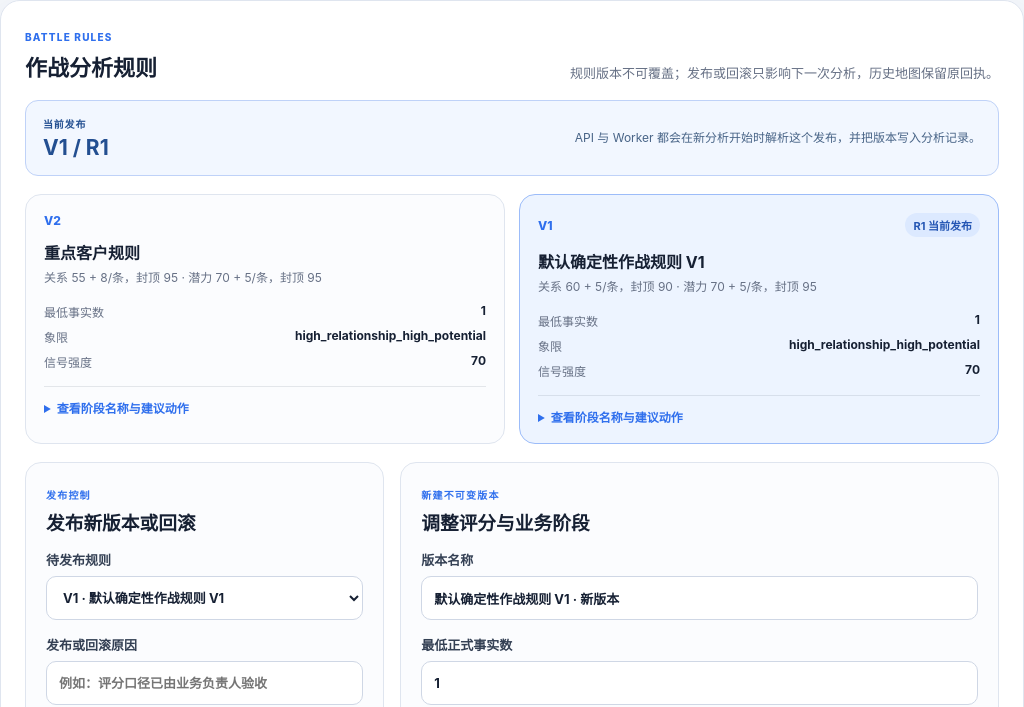
Scenario: BattleRuleManagementSection › shows the current receipt, score formulas and configured stage labels
expect the text "V1 / R1" is shown: met, box [43, 135, 109, 160]
expect the text "关系 60 + 5/条，封顶 90 · 潜力 70 + 5/条，封顶 95" is shown: met, box [538, 279, 817, 294]
Click the heading "查看阶段名称与建议动作" below "60 + 5/条，封顶 90" at (617,418), box [551, 410, 683, 425]
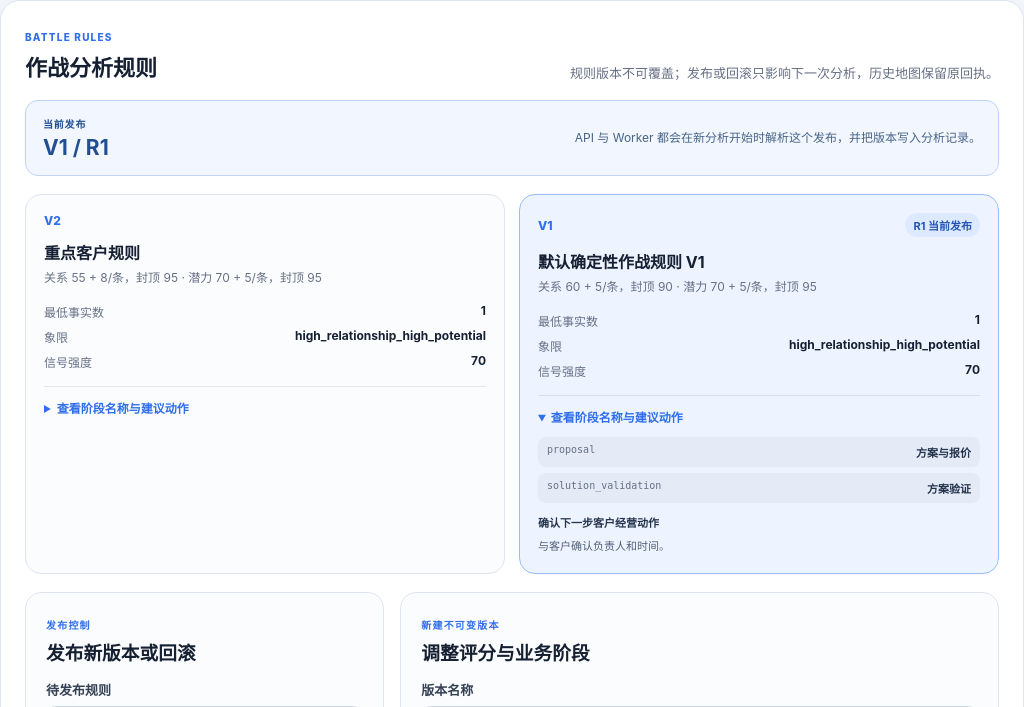
expect the text "方案验证" is shown 2 times: met
